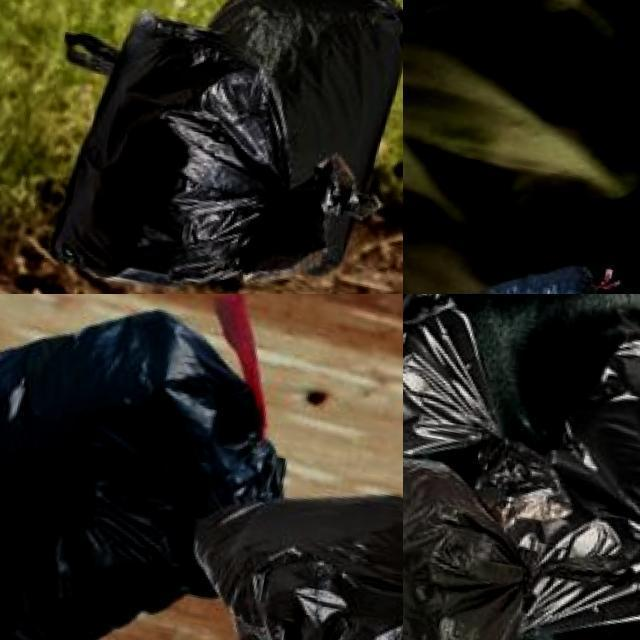waste: (0, 294, 307, 640), (50, 7, 380, 294), (489, 321, 640, 640), (194, 463, 403, 640), (403, 443, 555, 640), (403, 294, 538, 455), (477, 256, 597, 294)
